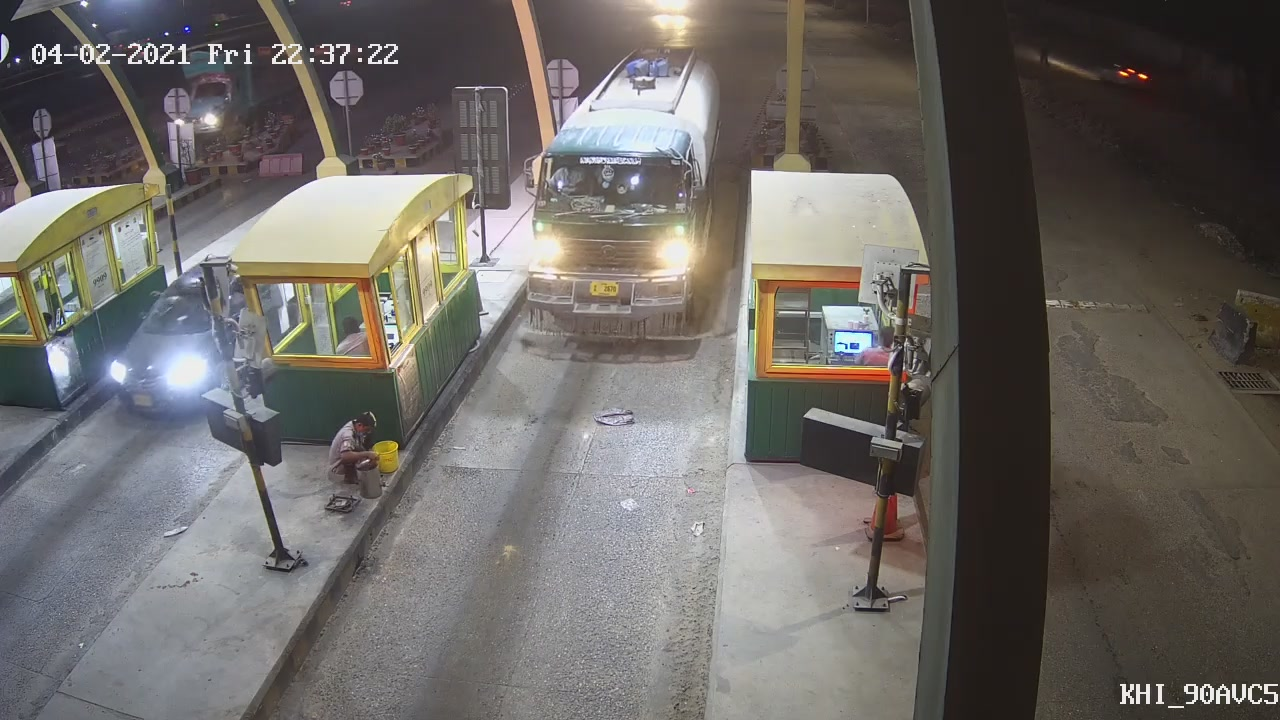F6: (514, 57, 721, 346)
